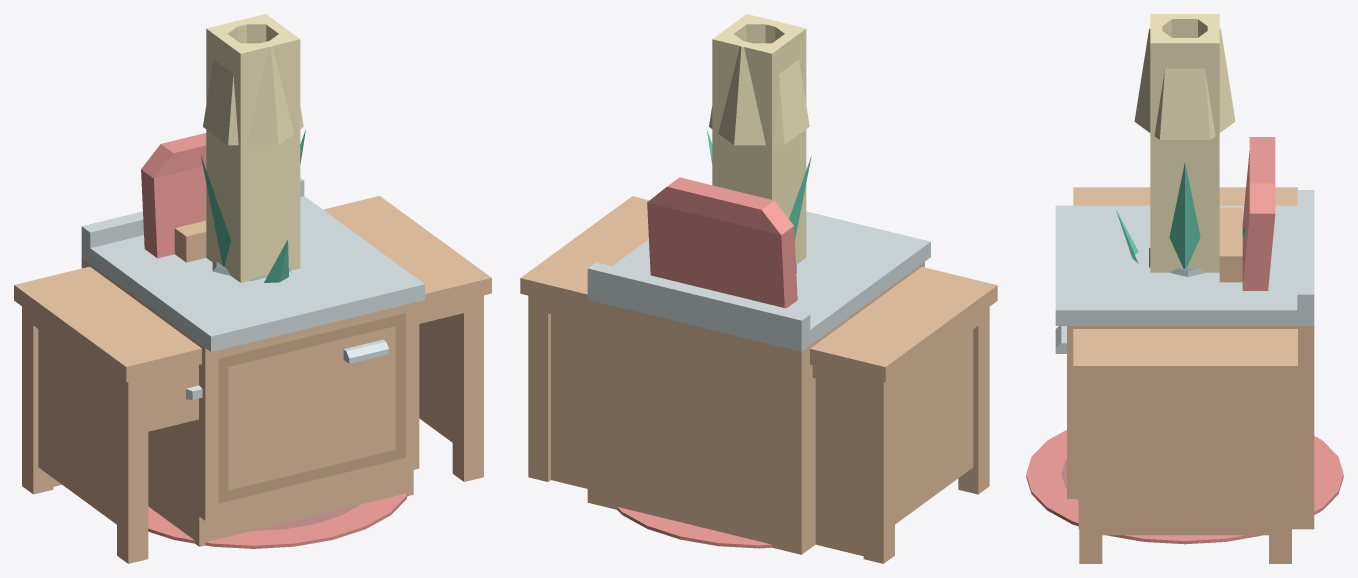
The model's file is furniture.glb.
3 views of the same model, side by side, from view 1: azimuth 30°, elevation 25°; view 2: azimuth 150°, elevation 25°; view 3: azimuth 270°, elevation 25° (orthographic).
Visible parts, largest first — view 1: Mesh desk, Mesh kitchenCabinet, door, lampSquareFloor(Clone), chair, lampRoundFloor(Clone), rugRound(Clone), plant, drawer, chair(Clone); view 2: Mesh kitchenCabinet, Mesh desk, chair, lampSquareFloor(Clone), lampRoundFloor(Clone), rugRound(Clone); view 3: Mesh desk, Mesh kitchenCabinet, lampSquareFloor(Clone), lampRoundFloor(Clone), rugRound(Clone), chair, plant, chair(Clone).
Part boxes in pixels (x1,y1,x2,y2): Mesh desk: (14,196,491,563); Mesh kitchenCabinet: (81,177,424,546); door: (218,313,405,503); lampSquareFloor(Clone): (206,14,300,282); chair: (141,133,206,258); lampRoundFloor(Clone): (203,20,303,145); rugRound(Clone): (148,493,407,548); plant: (200,129,305,282); drawer: (148,378,202,415); chair(Clone): (174,220,206,262); Mesh kitchenCabinet: (587,211,930,554); Mesh desk: (520,196,997,563); chair: (647,177,797,308); lampSquareFloor(Clone): (712,14,806,264); lampRoundFloor(Clone): (709,20,809,145); rugRound(Clone): (617,507,772,548); Mesh desk: (1073,187,1297,563); Mesh kitchenCabinet: (1055,190,1314,529); lampSquareFloor(Clone): (1150,14,1219,272); lampRoundFloor(Clone): (1134,15,1235,139); rugRound(Clone): (1026,430,1343,544); chair: (1242,137,1275,290); plant: (1116,163,1245,268); chair(Clone): (1219,207,1242,282).
Bounding box in the file's own units: 1.69 × 1.98 × 1.27.
